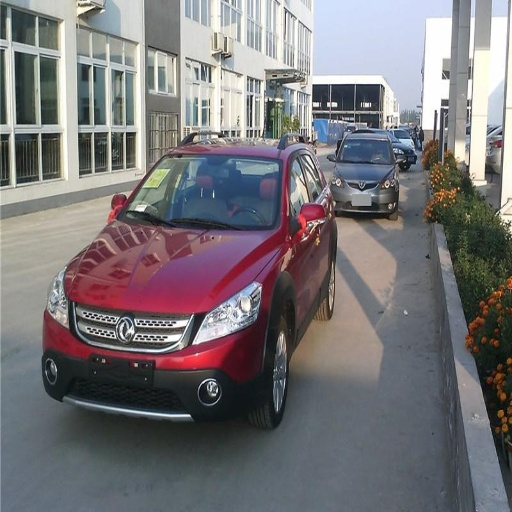front_bumper: (44, 304, 267, 419)
front_glass: (115, 152, 282, 229)
front_left_door: (289, 150, 317, 312)
